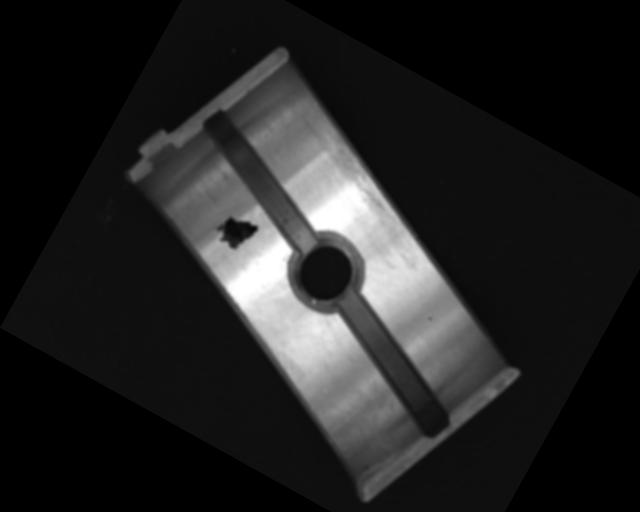blot: (209, 206, 262, 256)
bruise: (424, 312, 435, 323)
gap: (305, 287, 481, 439), (173, 107, 348, 254)
hole: (276, 223, 374, 323)
scratch: (277, 96, 433, 227)
